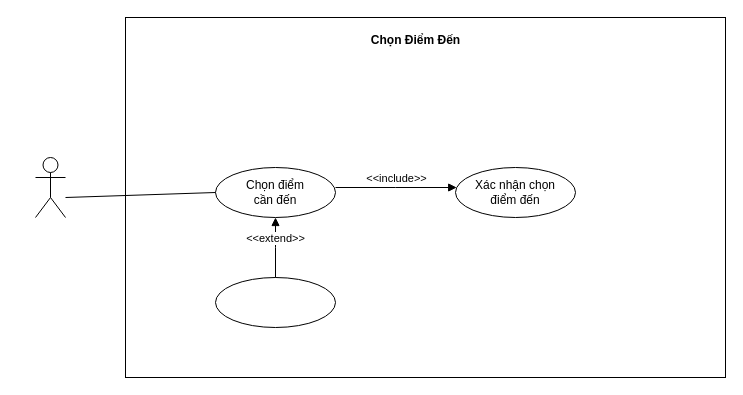
The diagram is 743 pixels wide and 395 high, and some of its shapes have lost their labels. The box of each missing label's shape, as (x1, y1, x2, y2) in pixels:
Chọn trạm ở gần nhất khác: (214, 276, 336, 328)
Người Dùng: (34, 156, 66, 218)
